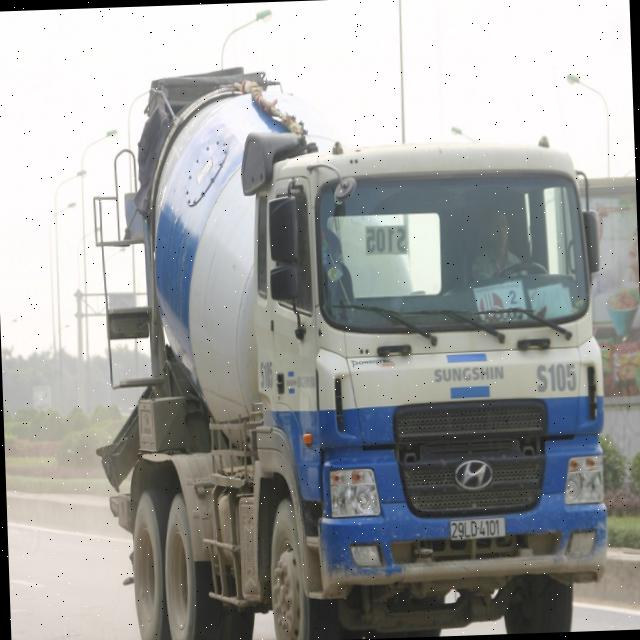Mixer Truck: (81, 54, 611, 640)
